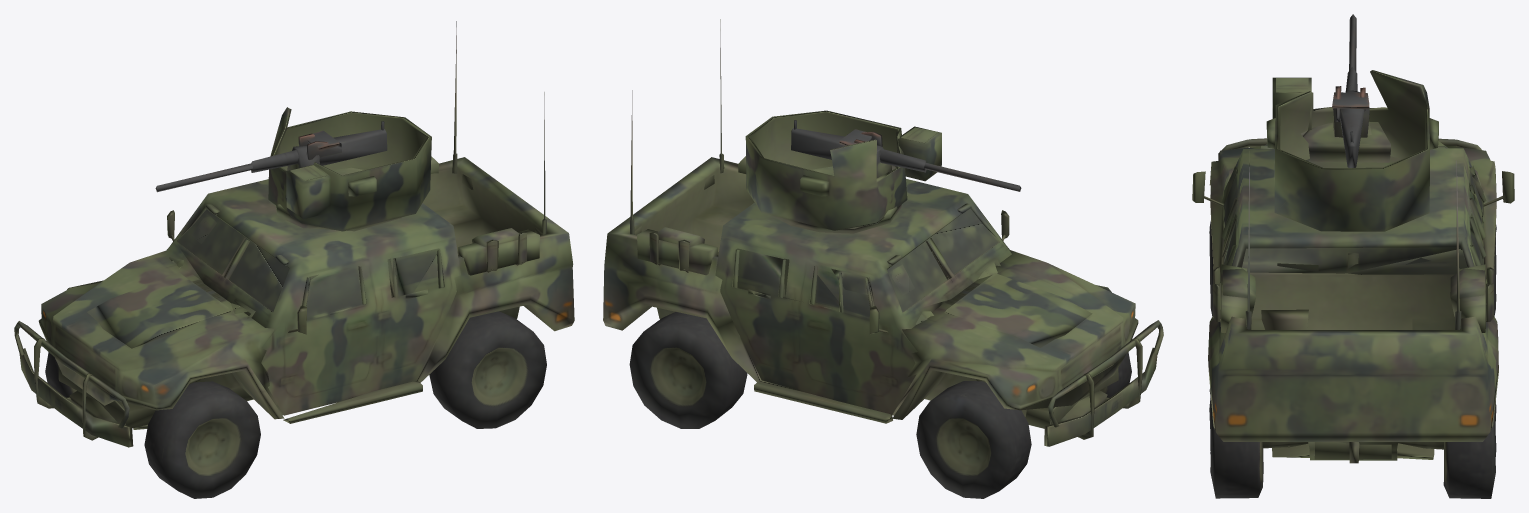
File: cn-mengshi.glb
3 renders of one model, left to right at view 1: azimuth 30°, elevation 25°; view 2: azimuth 150°, elevation 25°; view 3: azimuth 270°, elevation 25°, orthographic. The views are drawn at different scales.
Parts seen in each view (by area): view 1: geometry_0; view 2: geometry_0; view 3: geometry_0.
Boxes of the visible parts, <box> form: geometry_0: <box>14,21,574,498</box>; geometry_0: <box>603,19,1163,498</box>; geometry_0: <box>1192,14,1514,498</box>.
Size of the model in its own units: 1 by 0.6774 by 0.5173.
1 material, 1 textured.
